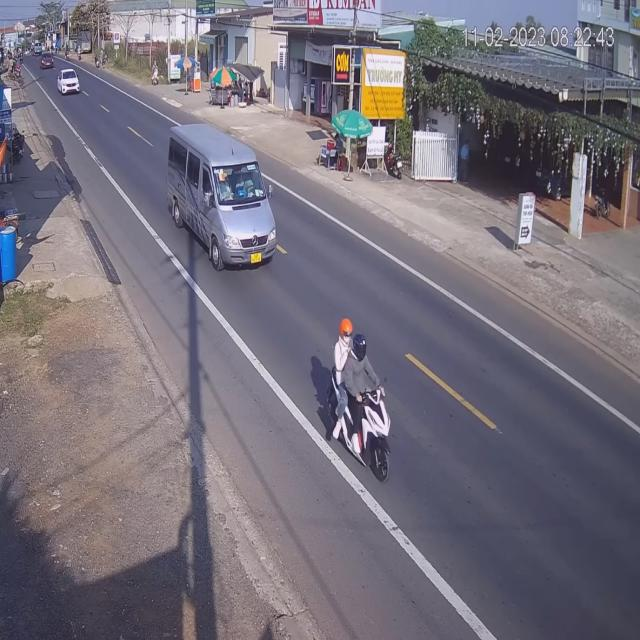bus: (166, 120, 277, 272)
car: (58, 66, 82, 96), (40, 51, 54, 70)
motorbike: (334, 318, 393, 479)
